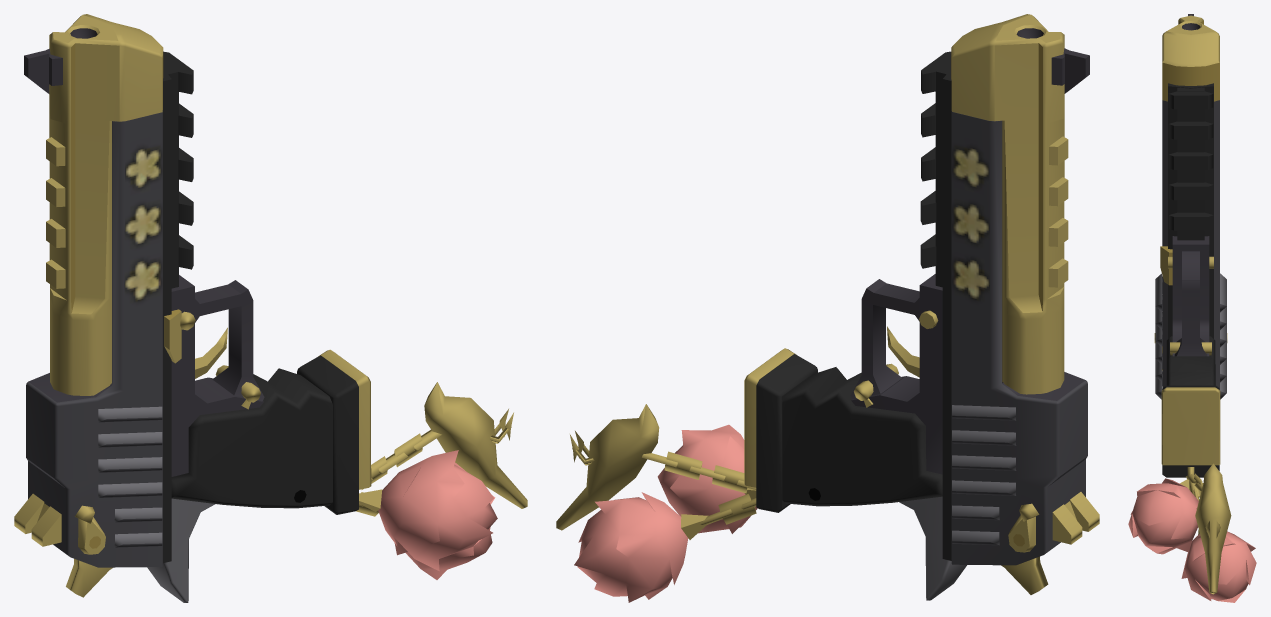
Rendered from UnMari_Weapon.fbx.
3 renders of one model, left to right at view 1: azimuth 30°, elevation 25°; view 2: azimuth 150°, elevation 25°; view 3: azimuth 270°, elevation 25°, orthographic. The views are drawn at different scales.
Visible parts, largest first — view 1: Mari_Original_Weapon; view 2: Mari_Original_Weapon; view 3: Mari_Original_Weapon.
Boxes of the visible parts, box(x1,y1,x2,y2) form: Mari_Original_Weapon: box(14, 14, 527, 602); Mari_Original_Weapon: box(556, 14, 1099, 602); Mari_Original_Weapon: box(1128, 14, 1256, 602).
Bounding box in the file's own units: 0.2421 × 0.2904 × 0.0752.
